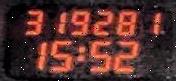1: (36, 41, 47, 69), (150, 12, 160, 33), (56, 11, 65, 34)
2: (112, 40, 137, 70), (92, 11, 112, 35)
3: (24, 10, 42, 34)
5: (49, 39, 71, 70), (88, 40, 110, 70)
8: (115, 11, 135, 35)
9: (70, 10, 89, 35)
X: (76, 45, 84, 61)
